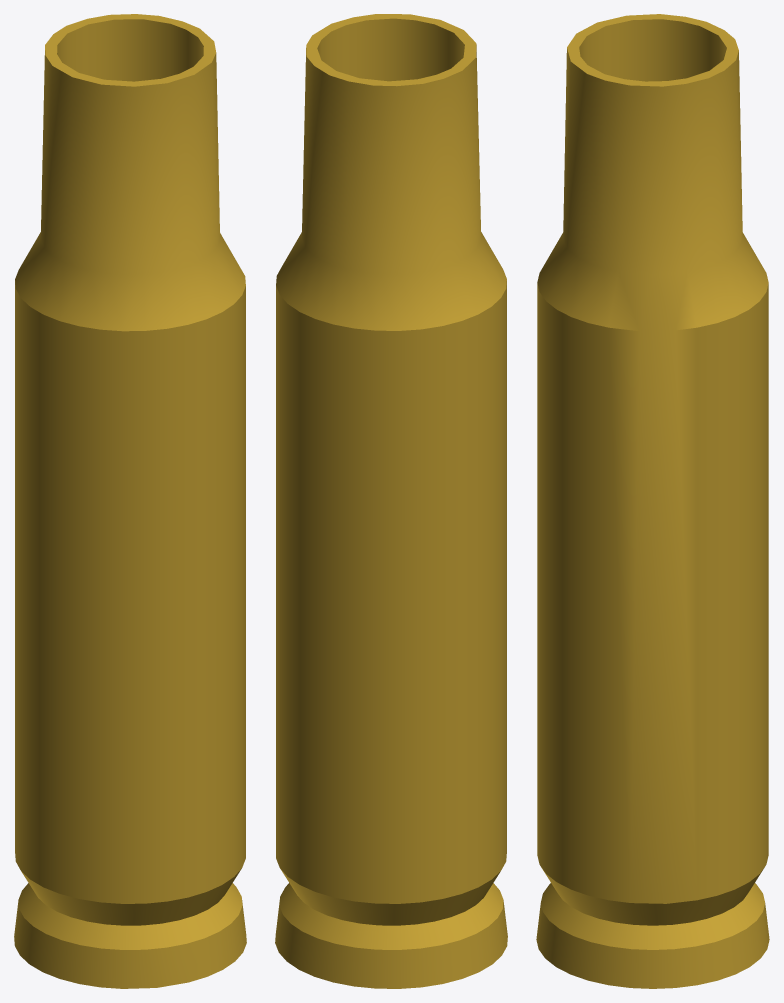
File: bulletcasing.fbx
3 renders of one model, left to right at view 1: azimuth 30°, elevation 25°; view 2: azimuth 150°, elevation 25°; view 3: azimuth 270°, elevation 25°, orthographic.
Visible parts, largest first — view 1: ammo; view 2: ammo; view 3: ammo.
Part boxes in pixels (x1,y1,x2,y2): ammo: (14, 14, 246, 988); ammo: (275, 14, 507, 988); ammo: (536, 14, 769, 988).
Bounding box in the file's own units: 2.18 × 9.16 × 2.18.
